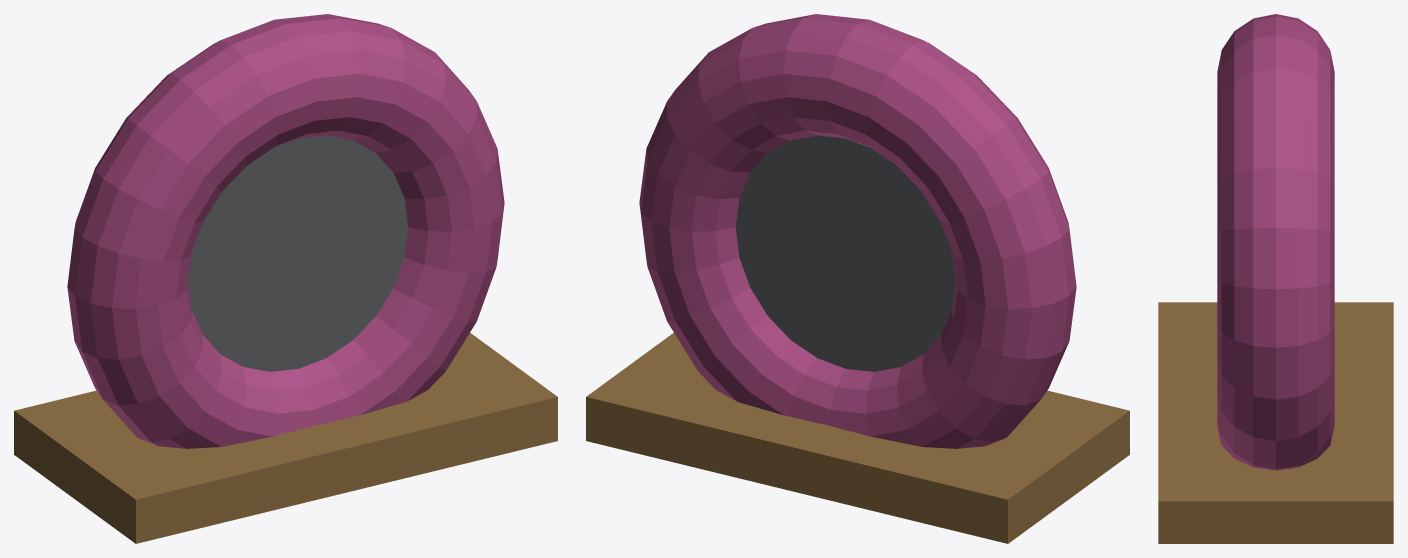
The model's file is portal.glb.
3 renders of one model, left to right at view 1: azimuth 30°, elevation 25°; view 2: azimuth 150°, elevation 25°; view 3: azimuth 270°, elevation 25°, orthographic. The views are drawn at different scales.
Parts seen in each view (by area): view 1: Mesh_Mesh_head_geo.001_lambert2SG.001; view 2: Mesh_Mesh_head_geo.001_lambert2SG.001; view 3: Mesh_Mesh_head_geo.001_lambert2SG.001.
Boxes of the visible parts, x1,y1,x2,y2 form: Mesh_Mesh_head_geo.001_lambert2SG.001: (14,14,557,543); Mesh_Mesh_head_geo.001_lambert2SG.001: (586,14,1129,543); Mesh_Mesh_head_geo.001_lambert2SG.001: (1158,14,1393,543).
Bounding box in the file's own units: 100 × 96 × 50.
